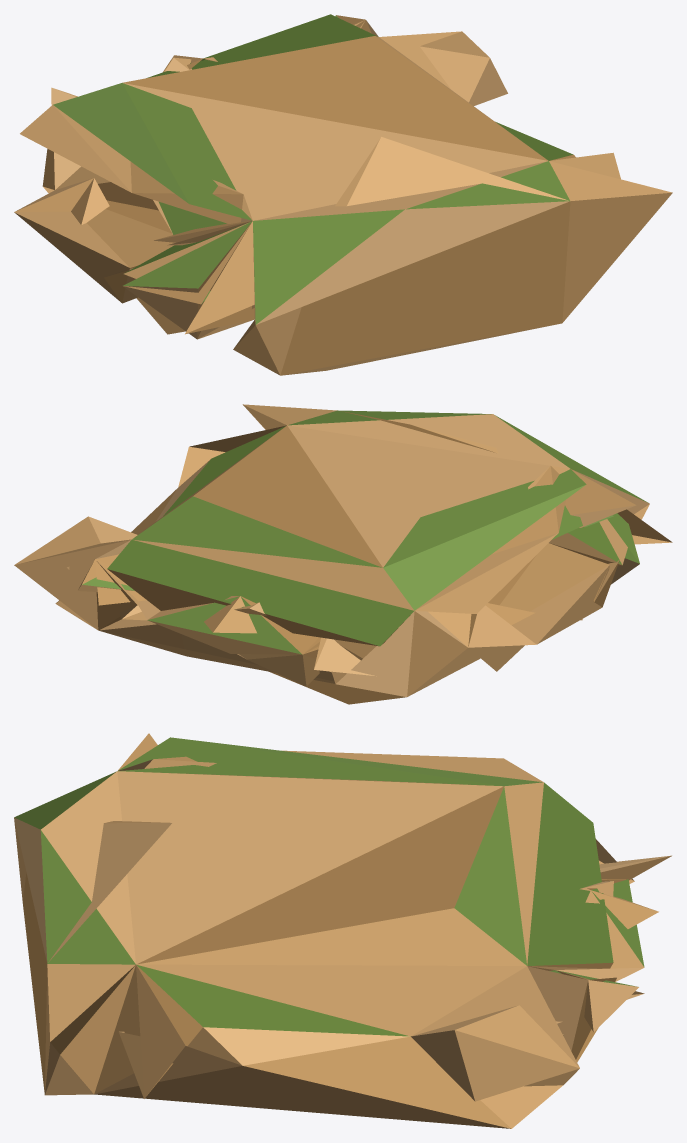
File: ChunkSandstone_a.fbx
3 views of the same model, one above another, from view 1: azimuth 30°, elevation 25°; view 2: azimuth 150°, elevation 25°; view 3: azimuth 270°, elevation 25° (orthographic). The views are drawn at different scales.
Parts seen in each view (by area): view 1: ChunkSandstone_a; view 2: ChunkSandstone_a; view 3: ChunkSandstone_a.
Boxes of the visible parts, x1=… form: ChunkSandstone_a: x1=14, y1=14, x2=672, y2=375; ChunkSandstone_a: x1=14, y1=404, x2=672, y2=704; ChunkSandstone_a: x1=14, y1=733, x2=671, y2=1128.
Size of what is drawn, in the model's own units: 0.2886 by 0.108 by 0.2789.
